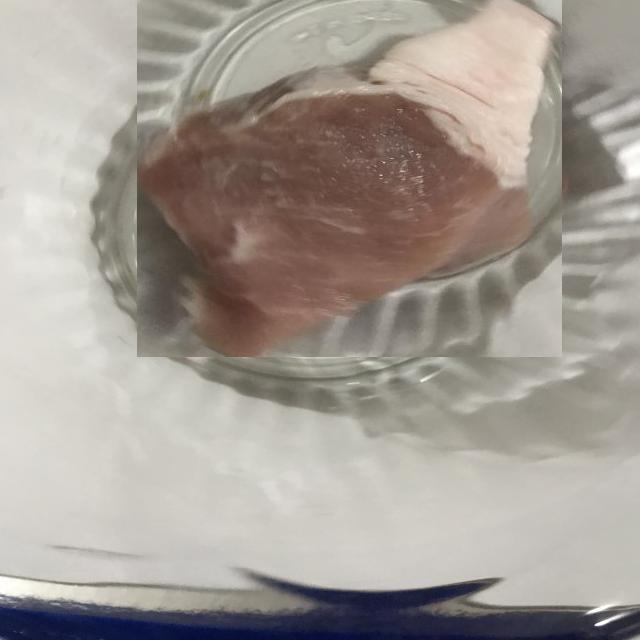chicken: (137, 0, 563, 358)
